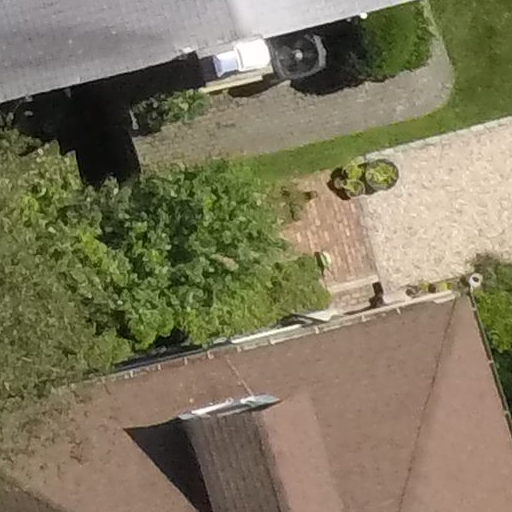container: (467, 268, 487, 288)
flower pot: (363, 156, 399, 192), (340, 178, 367, 199), (344, 163, 363, 182)
